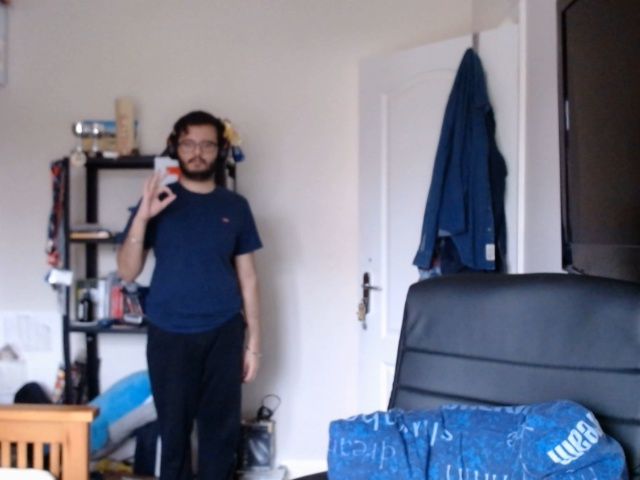Okay: (124, 168, 188, 224)
